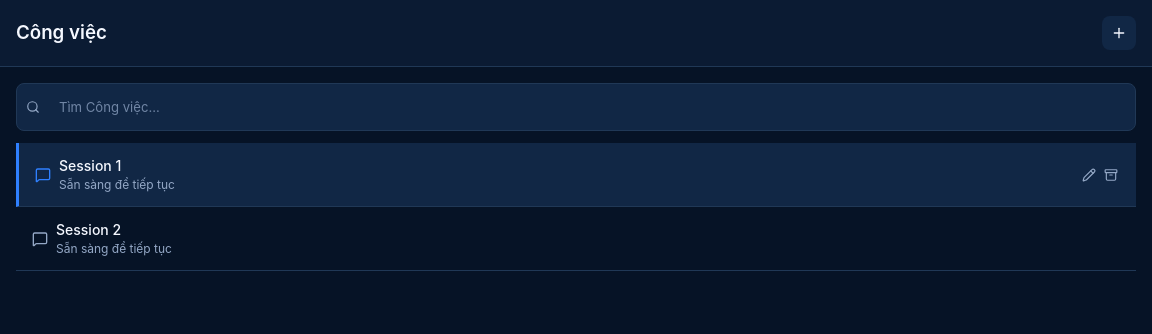
Test: SessionList › hiển thị lỗi inline khi đổi tên phiên thất bại
Click the button titled "Đổi tên Công việc".
click(1089, 175)  # box [1079, 166, 1098, 184]
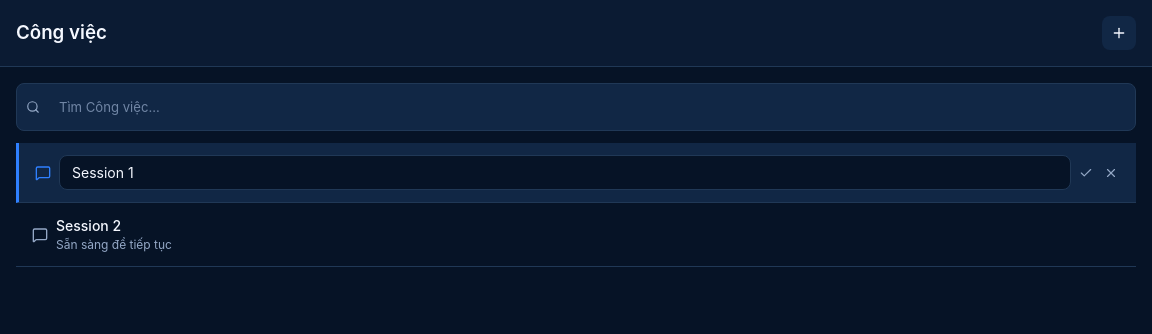
Replace the text in the field named "Tên Công việc mới" with "Tên mới" at (565, 173), box [59, 155, 1071, 190]
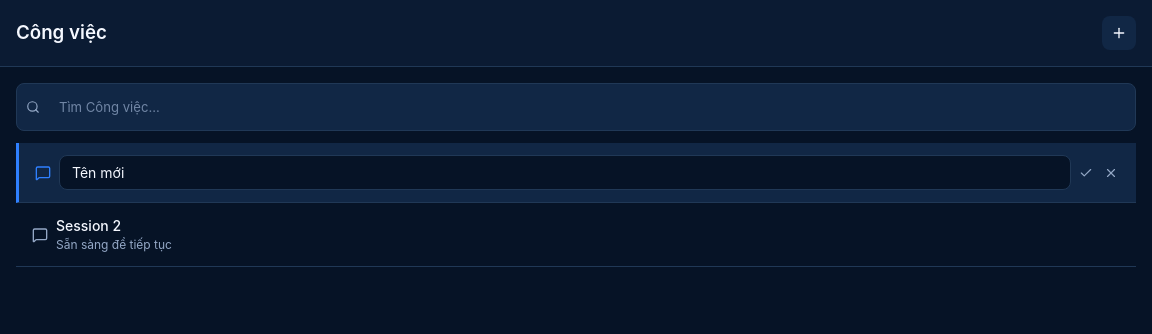
Click the button titled "Lưu tên Công việc".
click(1086, 173)  # box [1077, 164, 1096, 182]
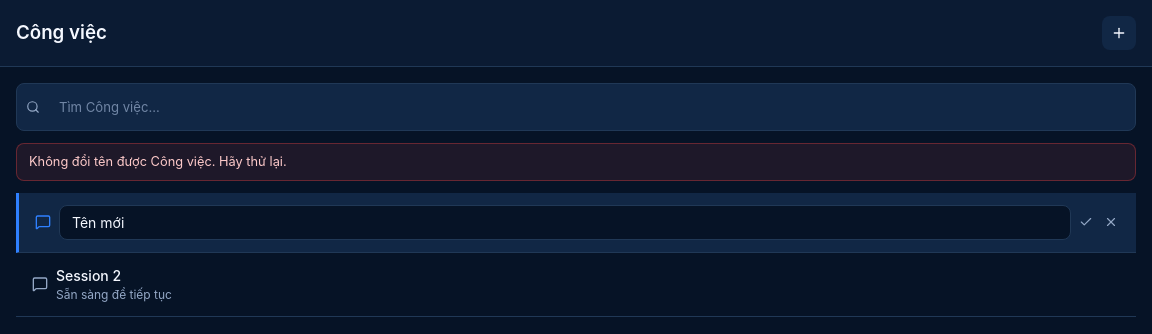
Check: the text "Không đổi tên được Công việc. Hãy thử lại." is shown, box [16, 143, 1136, 181]
